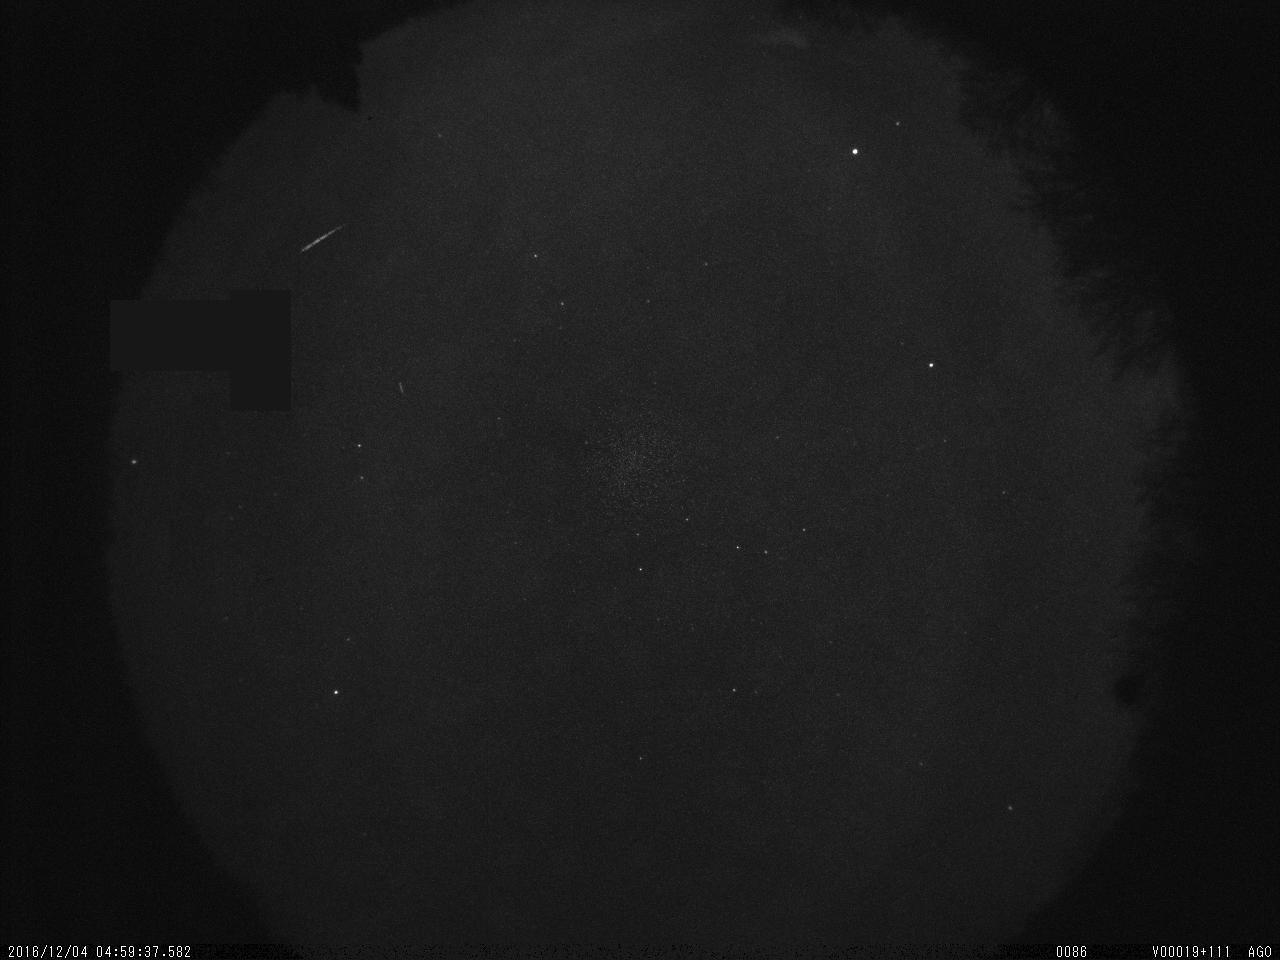meteor: (291, 206, 350, 264)
